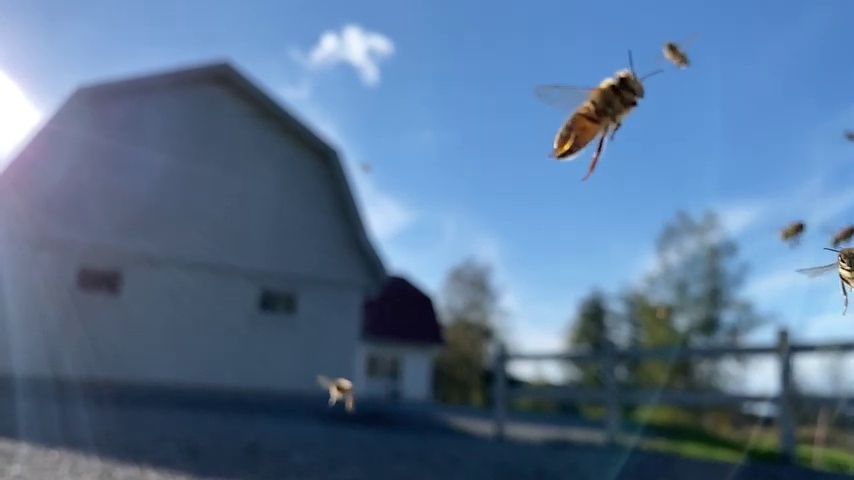insect: (535, 48, 663, 177), (797, 244, 854, 311), (318, 373, 356, 417), (659, 41, 692, 76), (773, 216, 807, 249), (826, 221, 854, 247)
